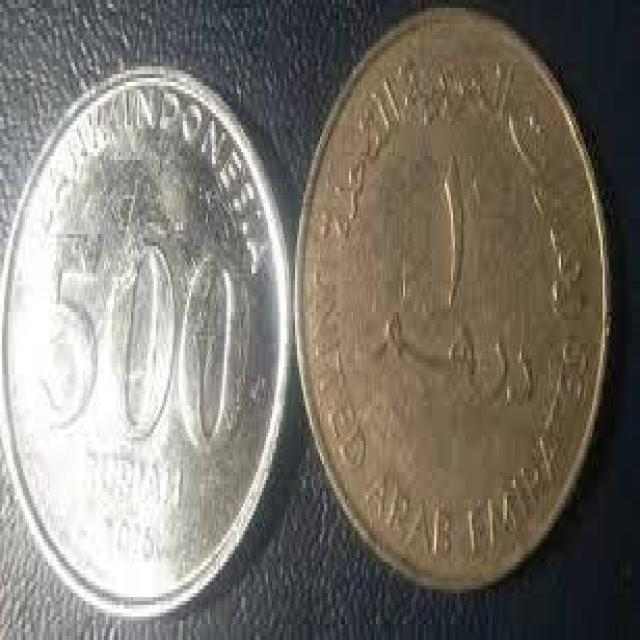500-silver: (0, 66, 291, 637)
